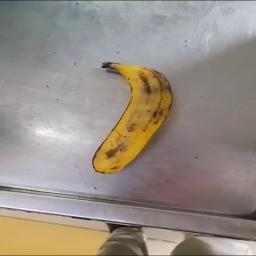Banana Semirotten: (82, 53, 180, 177)
